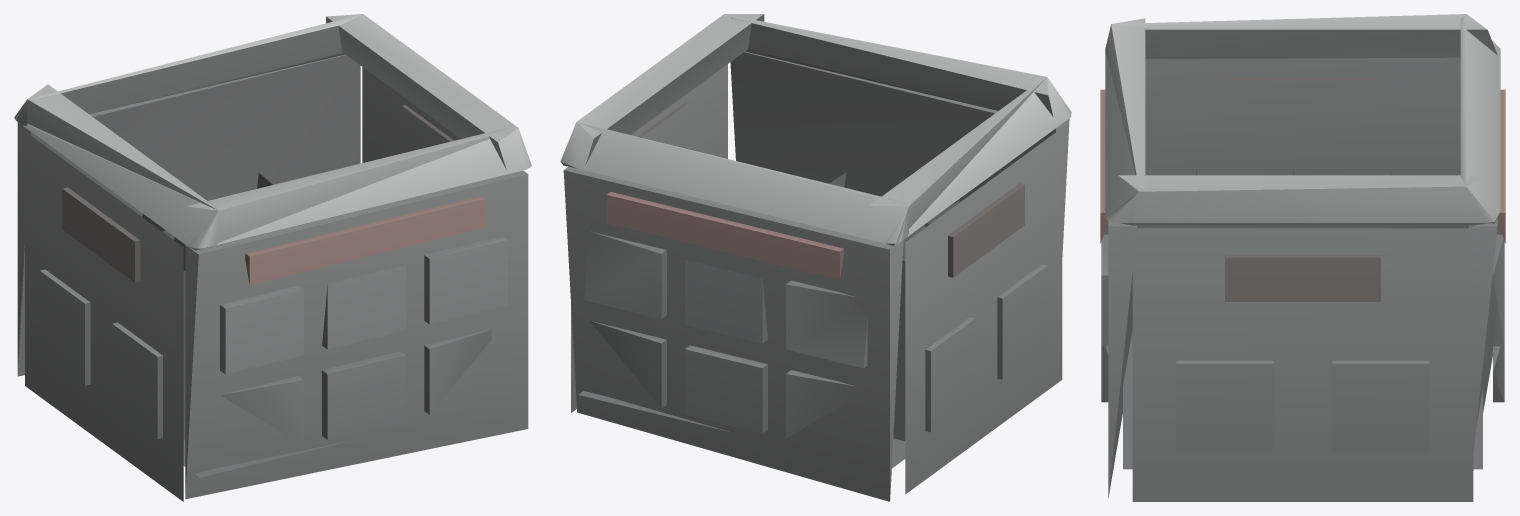
File: crate.lod2.glb
The picture shows the model from 3 angles, left to right: view 1: azimuth 30°, elevation 25°; view 2: azimuth 150°, elevation 25°; view 3: azimuth 270°, elevation 25°; orthographic projection. The views are drawn at different scales.
Bounding box in the file's own units: 0.444 × 0.356 × 0.416.
